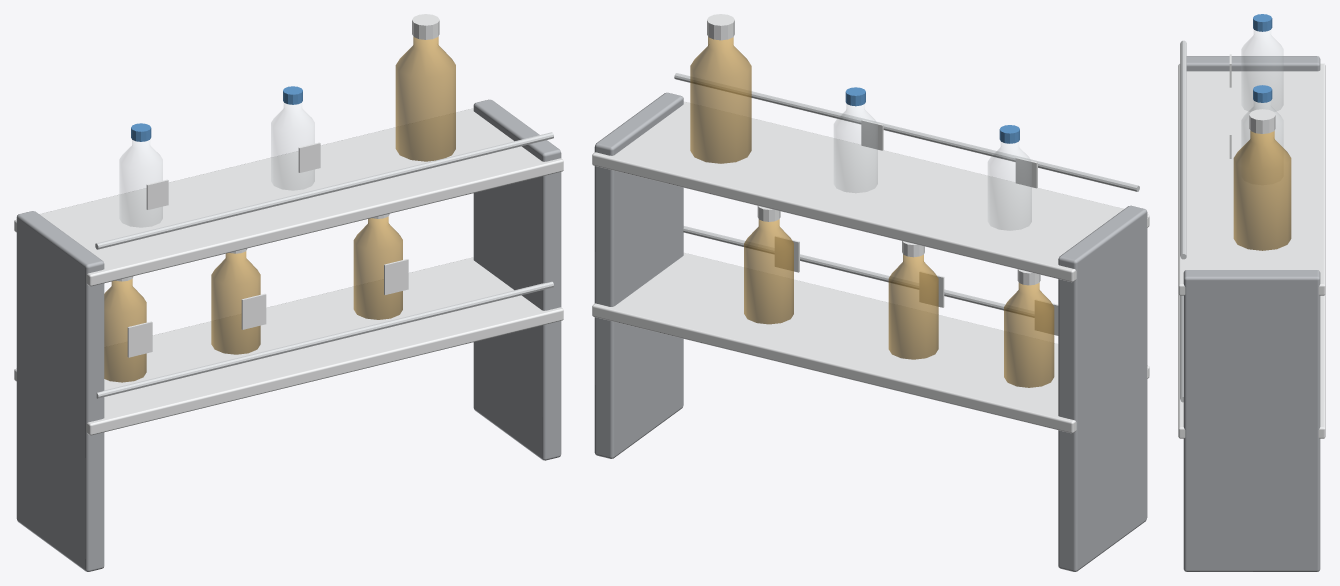
Rendered from reagent-shelf-over-bench.glb.
3 views of the same model, side by side, from view 1: azimuth 30°, elevation 25°; view 2: azimuth 150°, elevation 25°; view 3: azimuth 270°, elevation 25° (orthographic). The views are drawn at different scales.
Visible parts, largest first — view 1: reagent-shelf-over-bench; view 2: reagent-shelf-over-bench; view 3: reagent-shelf-over-bench.
Part boxes in pixels (bbox=[...]): reagent-shelf-over-bench: bbox=[14, 14, 563, 571]; reagent-shelf-over-bench: bbox=[592, 14, 1149, 571]; reagent-shelf-over-bench: bbox=[1178, 14, 1325, 571].
Size of the model in its own units: 1 by 0.868 by 0.2799.
